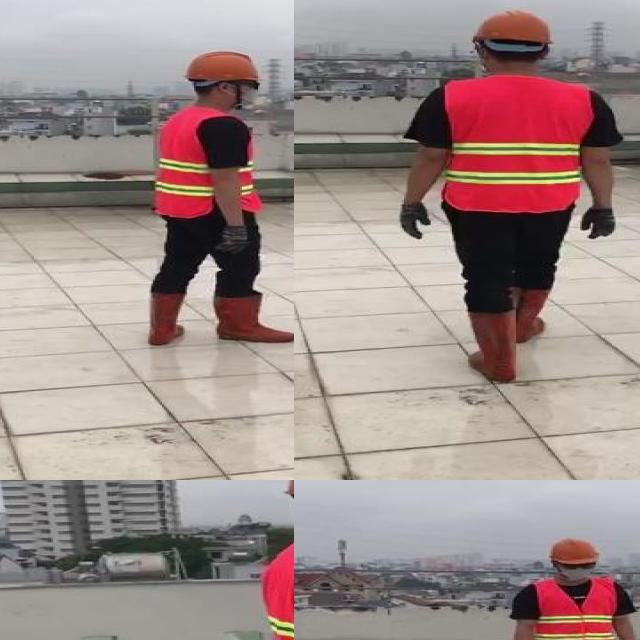boots: (211, 290, 294, 343), (464, 310, 520, 386), (510, 288, 550, 347), (148, 293, 188, 348)
face_mask: (555, 558, 597, 582), (228, 80, 263, 107)
glasses: (559, 559, 597, 571)
hand_glove: (398, 203, 431, 240), (582, 206, 616, 238), (214, 223, 249, 254)
head_helmet: (464, 7, 557, 48), (177, 50, 266, 84), (542, 536, 603, 567)
person: (381, 6, 630, 394), (134, 43, 294, 348), (508, 537, 640, 640)
vest: (443, 76, 591, 213), (158, 109, 260, 217), (533, 579, 624, 640)
